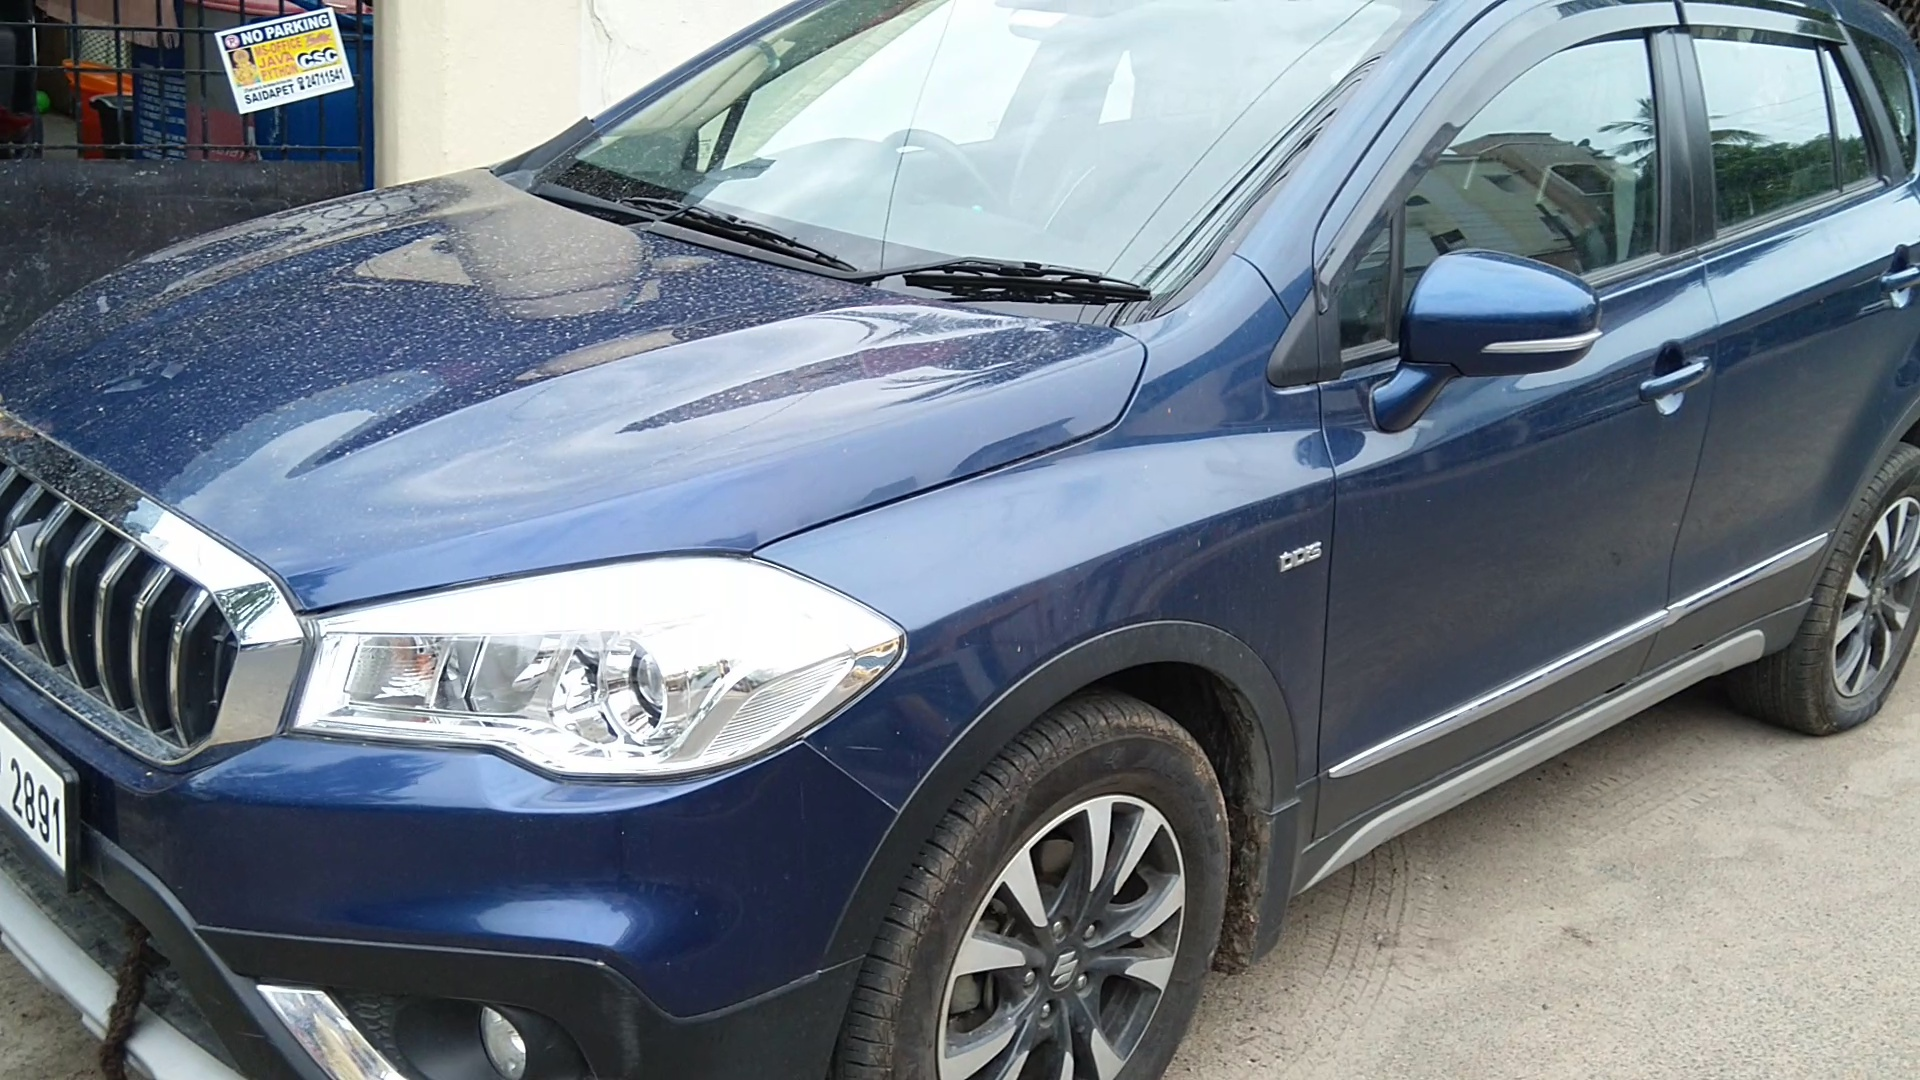alloy_wheel: (903, 708, 1238, 1080)
headlamp: (294, 525, 916, 796)
ovr_mirror: (1391, 233, 1611, 390)
